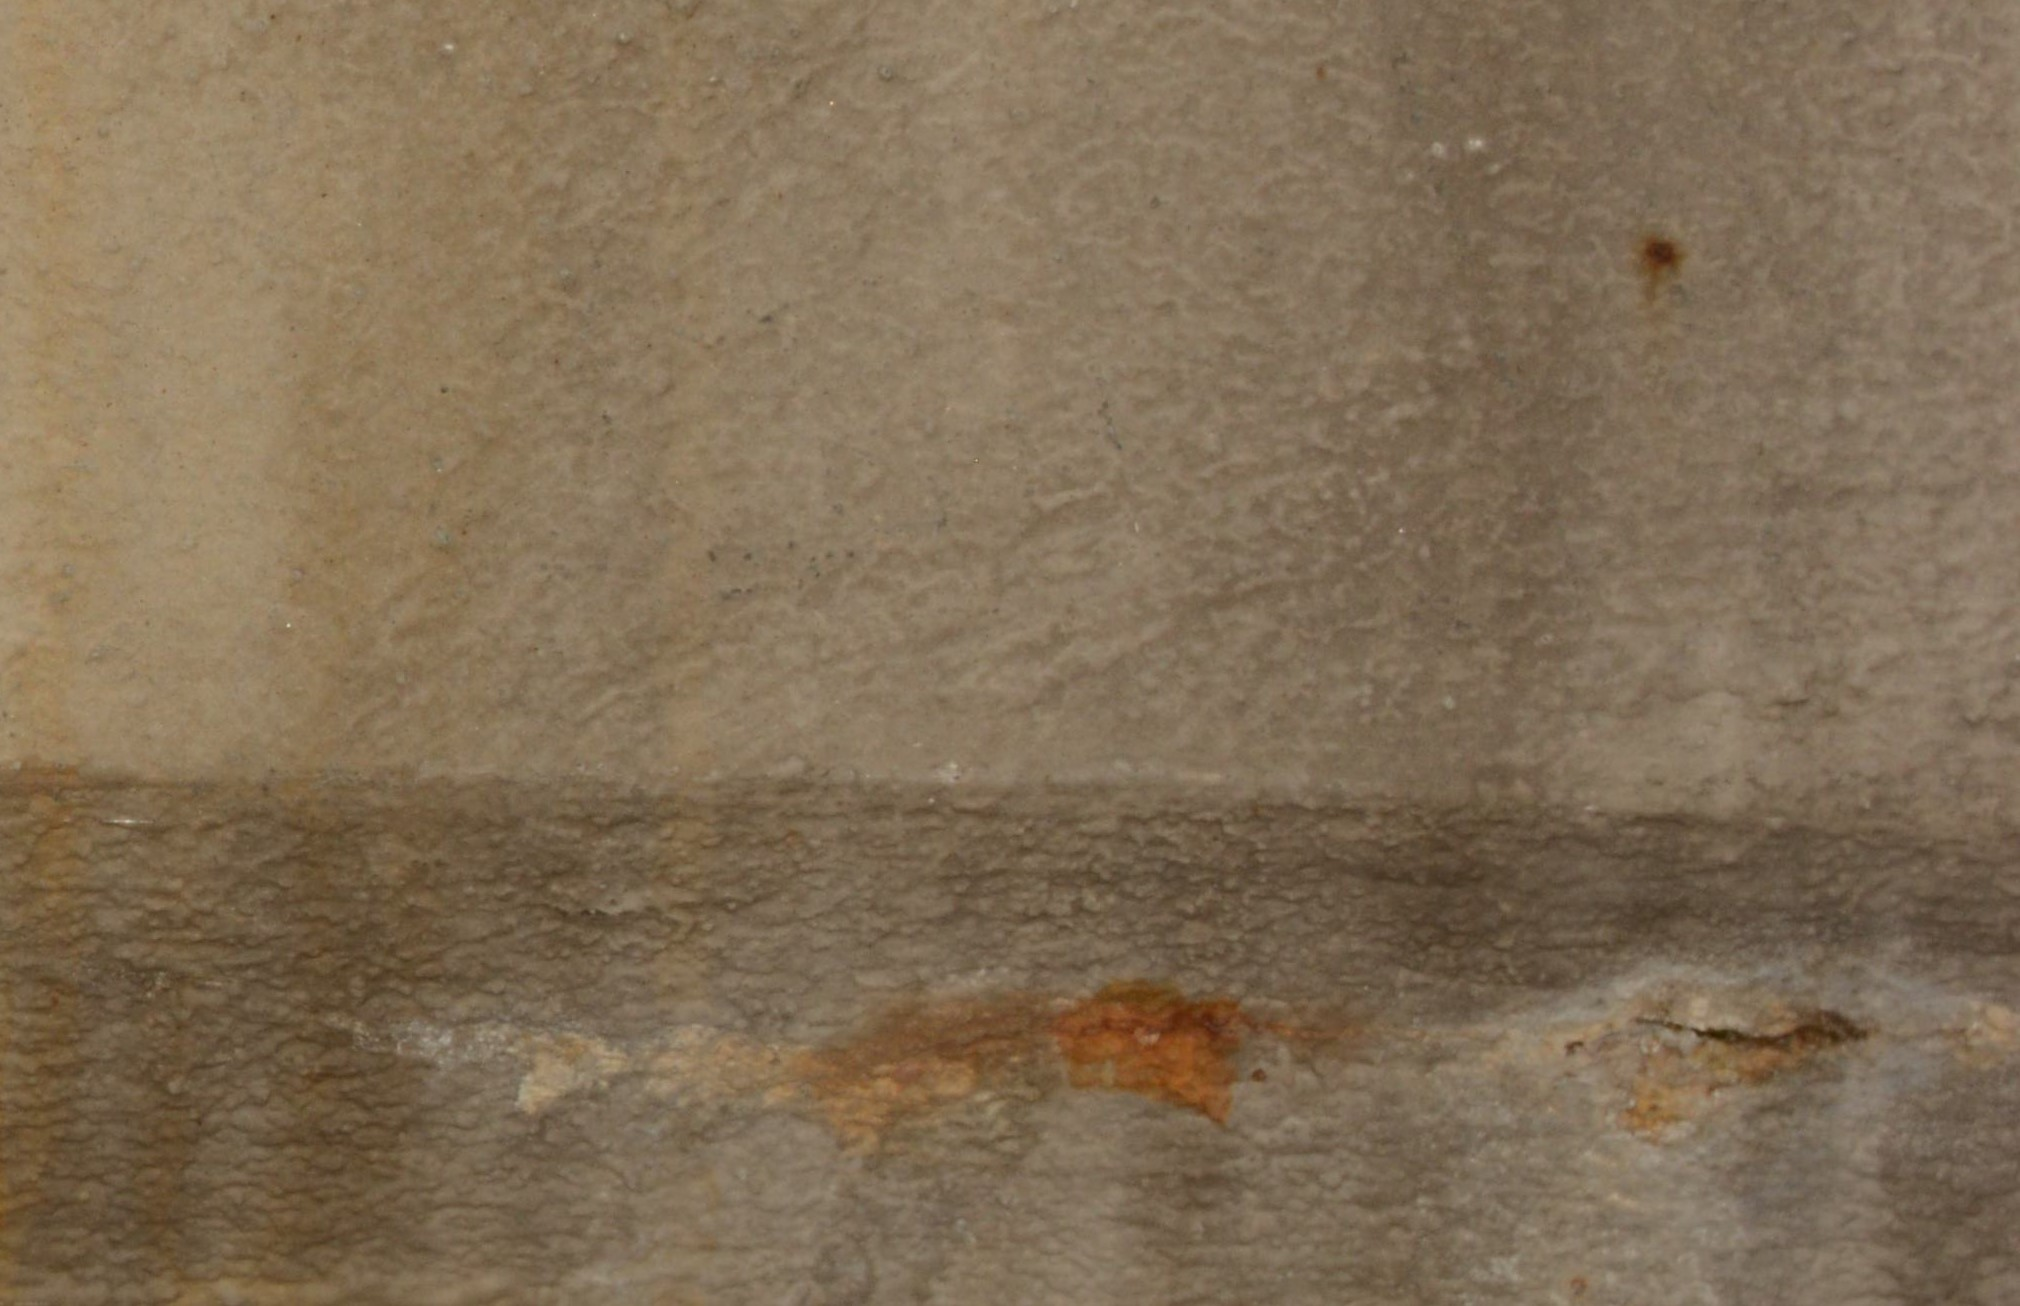Corrosion: (375, 981, 1360, 1154)
Spalling: (1565, 995, 1865, 1157)
